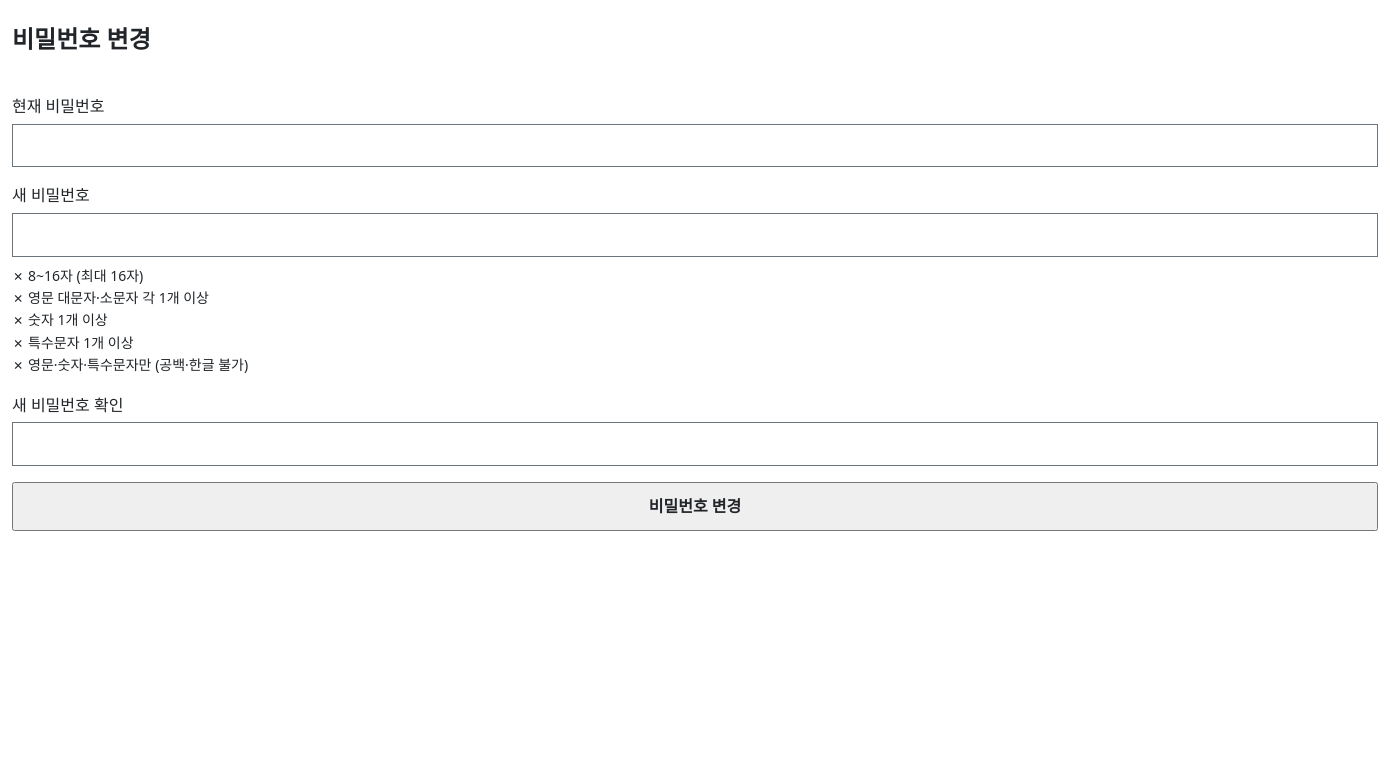
PasswordChangeForm › 잠금(429)이면 남은 시간
The width and height of the screenshot is (1390, 768).
Type "Blog#2026a" into the password field labelled "현재 비밀번호" at (695, 146), box x1=12 y1=124 x2=1378 y2=167
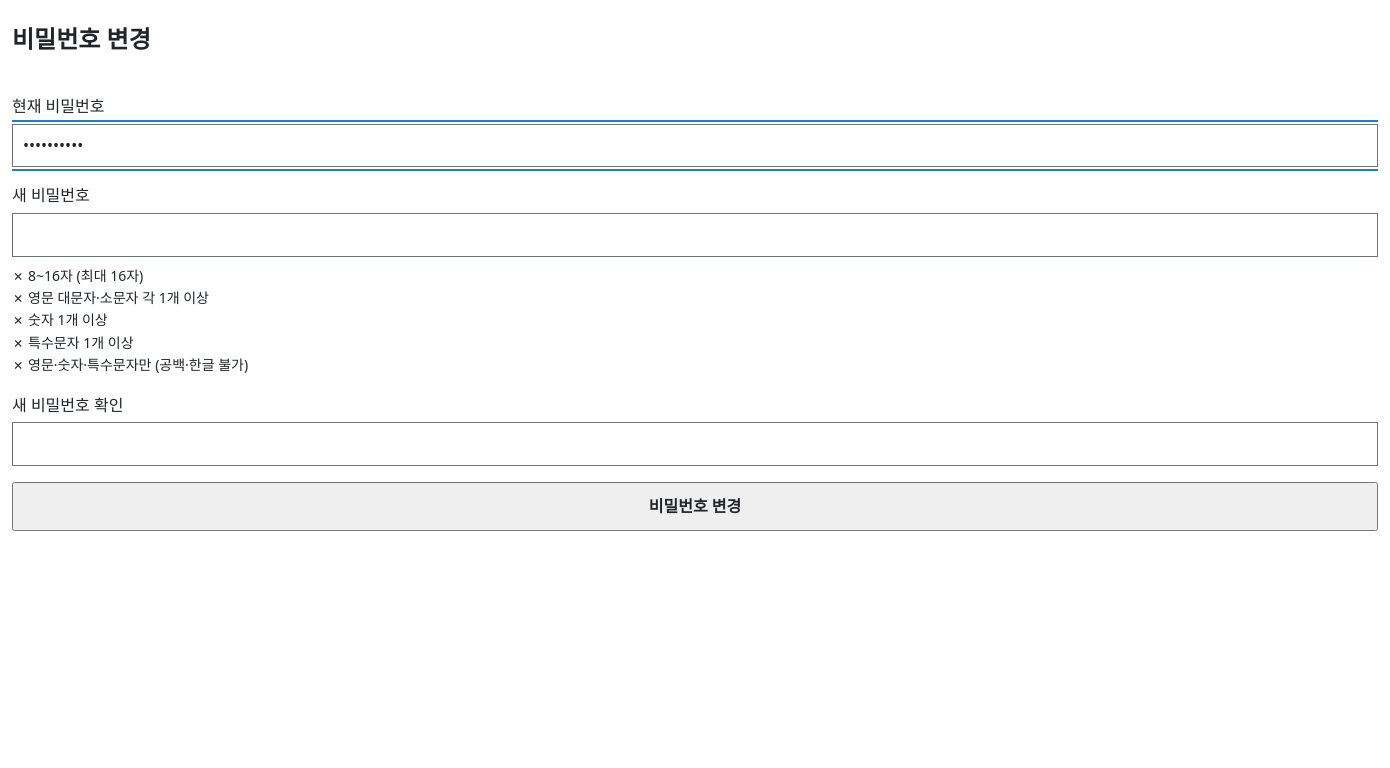
Type "Fresh#2026b" into the password field labelled "새 비밀번호" at (695, 235), box x1=12 y1=213 x2=1378 y2=257
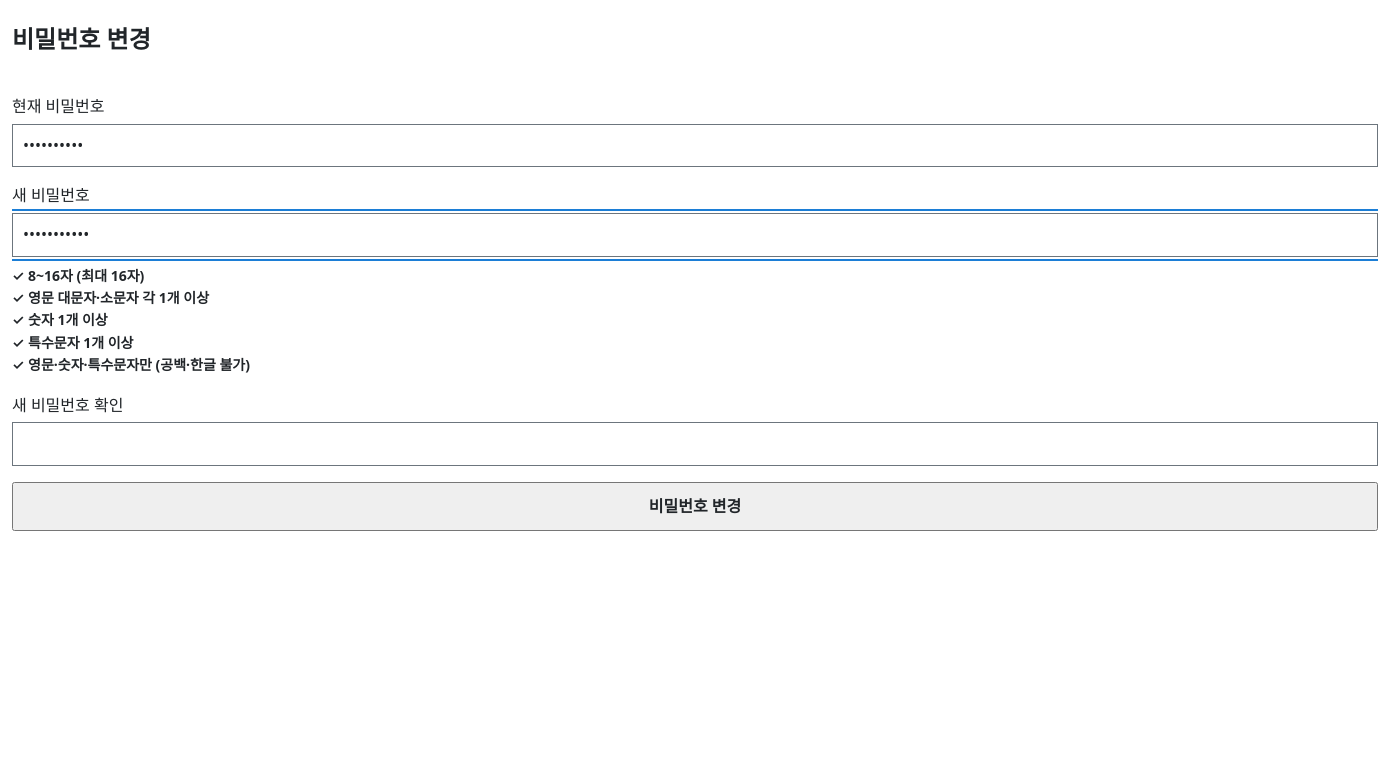
Type "Fresh#2026b" into the password field labelled "새 비밀번호 확인" at (695, 444), box x1=12 y1=422 x2=1378 y2=466
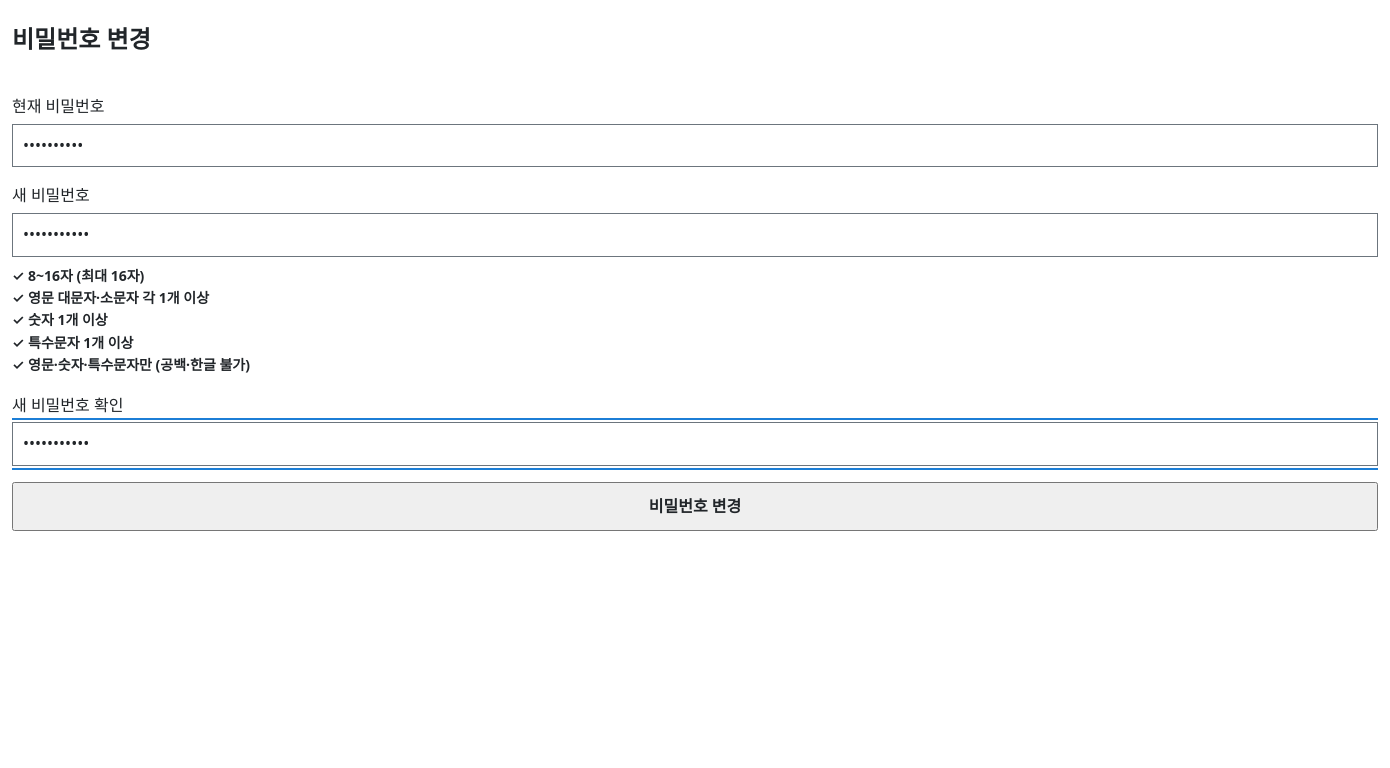
Click the button "비밀번호 변경" at (695, 506), box x1=12 y1=482 x2=1378 y2=531
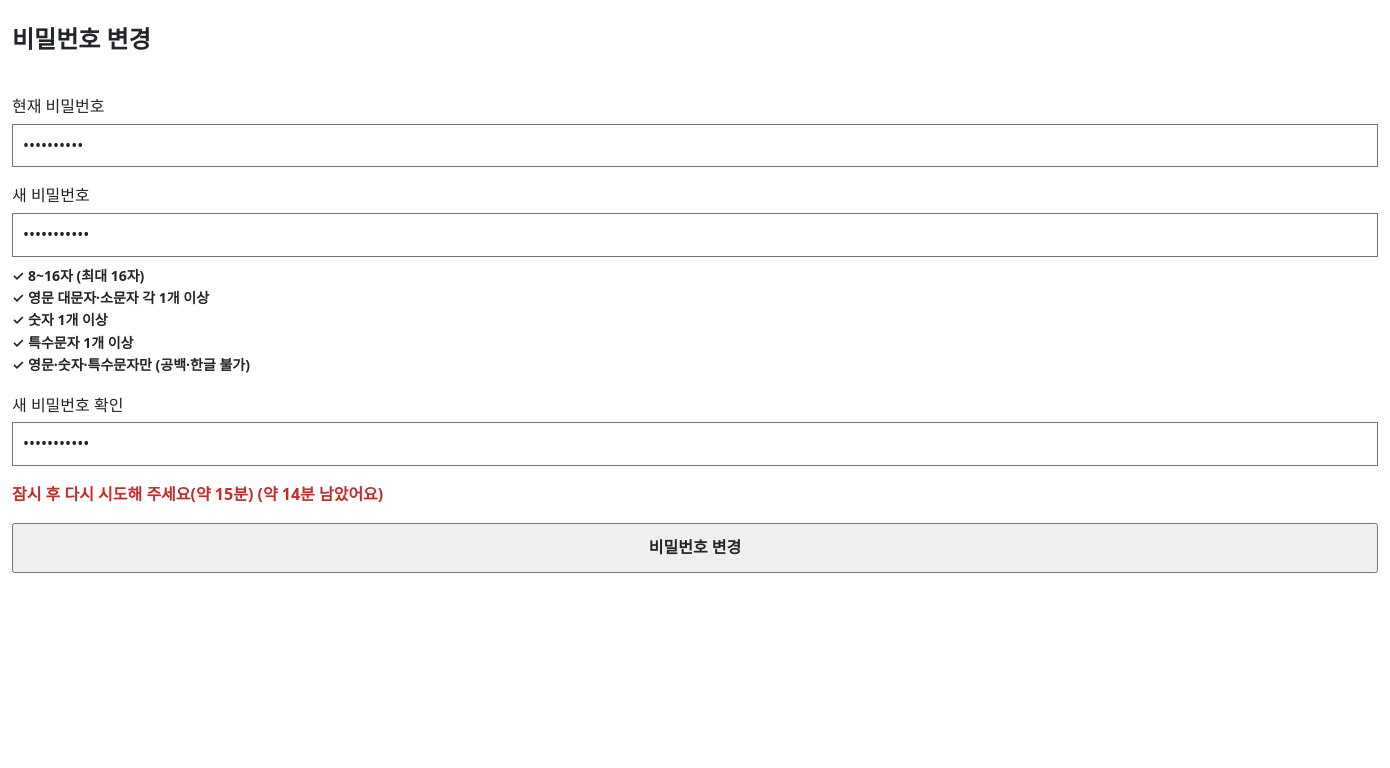
Expected: the message shows "약 14분 남았어요", x1=12 y1=483 x2=383 y2=505
